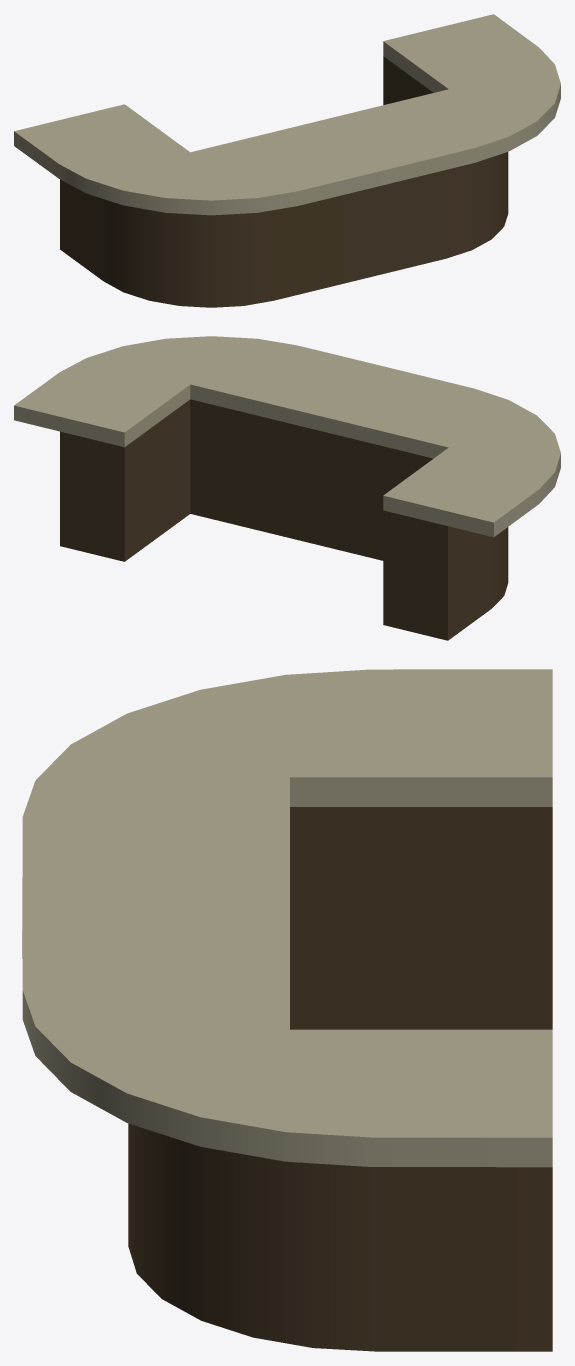
File: PS_RoundCorner01.fbx
The picture shows the model from 3 angles, top to bottom: view 1: azimuth 30°, elevation 25°; view 2: azimuth 150°, elevation 25°; view 3: azimuth 270°, elevation 25°; orthographic projection. The views are drawn at different scales.
Parts seen in each view (by area): view 1: PS_RoundCorner01; view 2: PS_RoundCorner01; view 3: PS_RoundCorner01.
Part boxes in pixels (x1,y1,x2,y2): PS_RoundCorner01: [14, 14, 560, 307]; PS_RoundCorner01: [14, 336, 560, 640]; PS_RoundCorner01: [22, 669, 552, 1351].
Bounding box in the file's own units: 3.16 × 0.8151 × 1.51.
